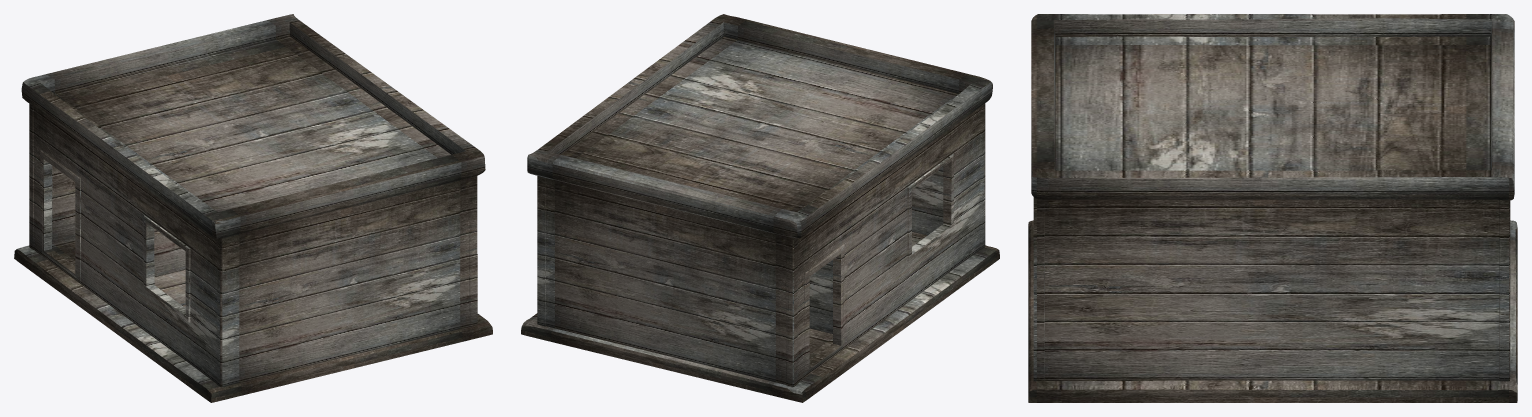
The model's file is casa.obj.
3 renders of one model, left to right at view 1: azimuth 30°, elevation 25°; view 2: azimuth 150°, elevation 25°; view 3: azimuth 270°, elevation 25°, orthographic. The views are drawn at different scales.
Parts seen in each view (by area): view 1: Cabin; view 2: Cabin; view 3: Cabin.
Boxes of the visible parts, x1=… form: Cabin: x1=14, y1=14, x2=492, y2=402; Cabin: x1=521, y1=14, x2=999, y2=402; Cabin: x1=1028, y1=14, x2=1517, y2=402.
Bounding box in the file's own units: 1805 × 1098 × 2187.
